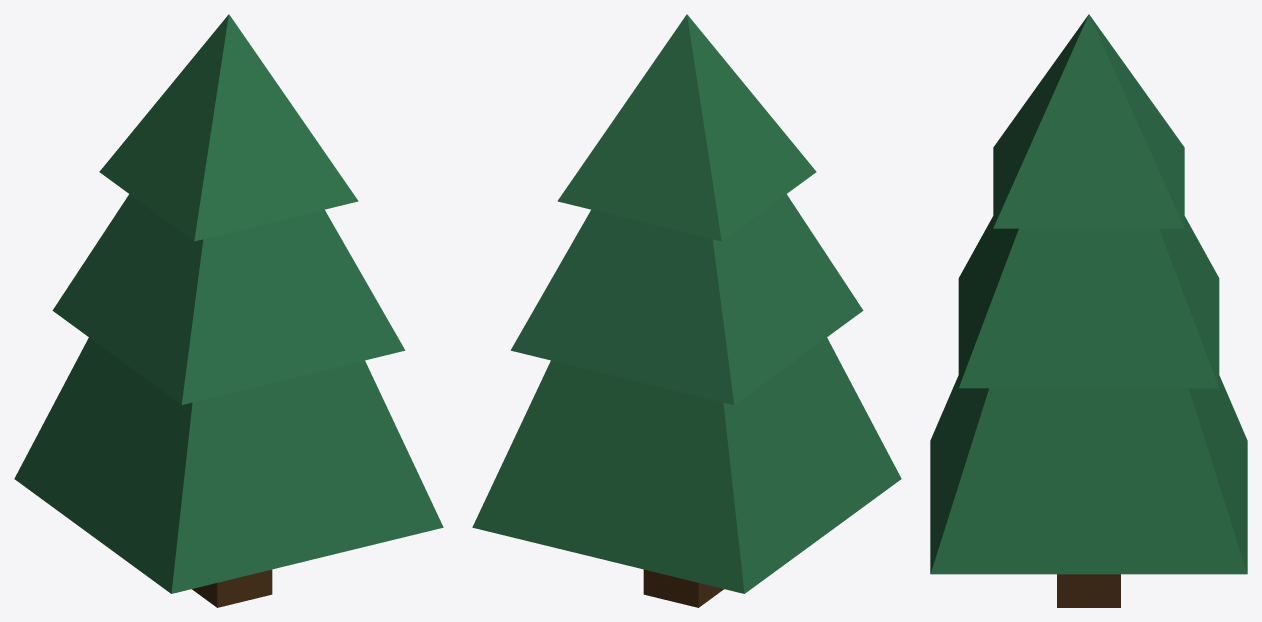
File: Tree.fbx
3 views of the same model, side by side, from view 1: azimuth 30°, elevation 25°; view 2: azimuth 150°, elevation 25°; view 3: azimuth 270°, elevation 25° (orthographic).
Visible parts, largest first — view 1: Tree; view 2: Tree; view 3: Tree.
Boxes of the visible parts, x1,y1,x2,y2 form: Tree: (14, 14, 443, 607); Tree: (472, 14, 901, 607); Tree: (930, 14, 1247, 607).
Size of the model in its own units: 99 by 200 by 99.
